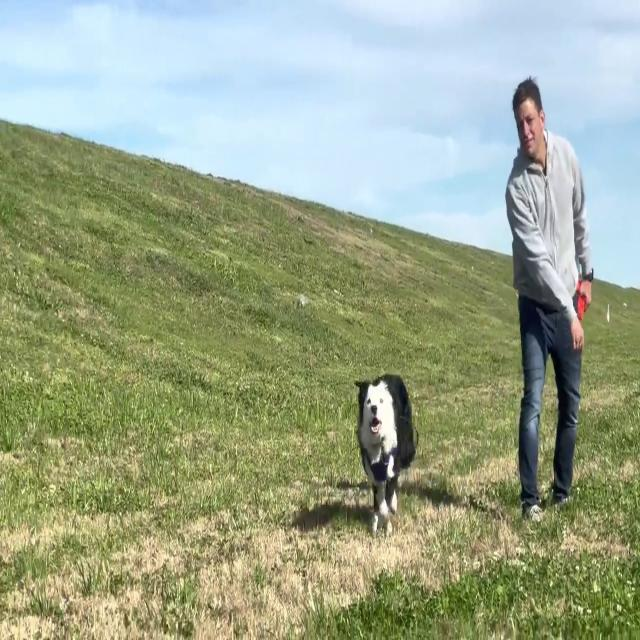Unleashed_Dog: (354, 306, 566, 530)
